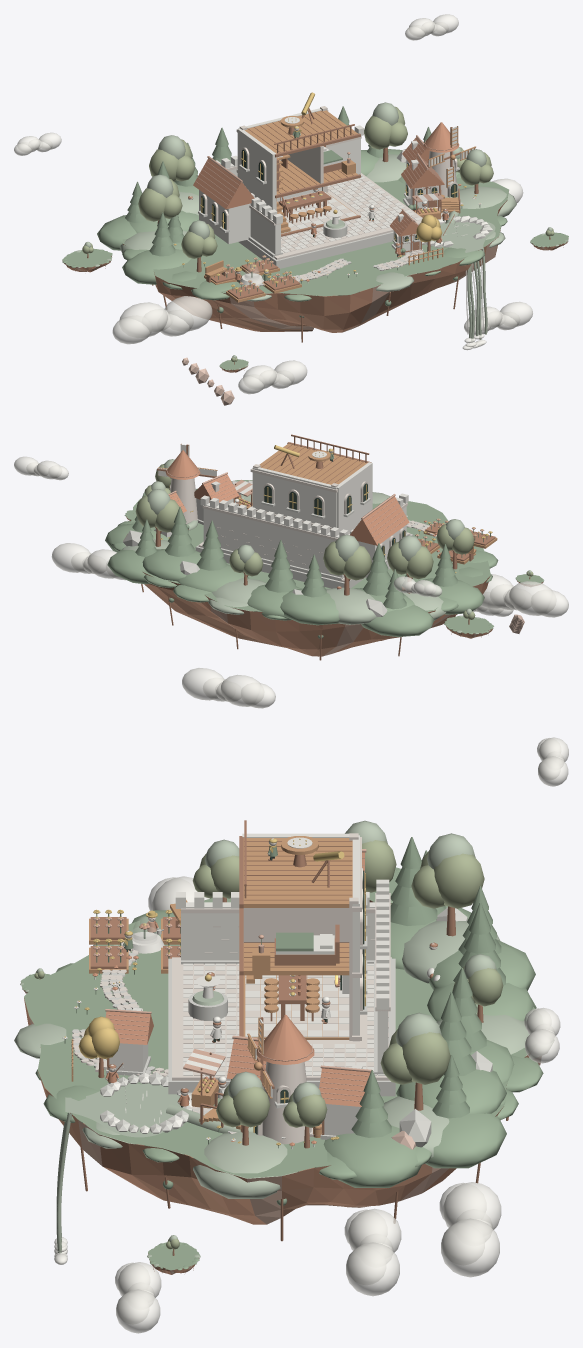
Rendered from castle-interior.glb.
The picture shows the model from 3 angles, top to bottom: view 1: azimuth 30°, elevation 25°; view 2: azimuth 150°, elevation 25°; view 3: azimuth 270°, elevation 25°; orthographic projection. The views are drawn at different scales.
Visible parts, largest first — view 1: island-terrain-details (×5), castle-structure-details (×4), whispering-forest-details (×5), castle-interior-details (×4), wandering-clouds, windmill-village-details (×6), rose-garden-details (×3), starlight-waterfall-details, little-satellite-islands-details (×2), windmill-blades; view 2: whispering-forest-details (×6), castle-structure-details (×6), island-terrain-details (×5), wandering-clouds, castle-interior-details (×2), windmill-village-details (×4), rose-garden-details (×2), little-satellite-islands-details; view 3: whispering-forest-details (×7), island-terrain-details (×5), castle-interior-details (×5), castle-structure-details (×3), windmill-village-details (×7), wandering-clouds, starlight-waterfall-details (×2), rose-garden-details (×3), little-satellite-islands-details, windmill-blades.
Boxes of the visible parts, box(x1,y1,x2,y2) form: island-terrain-details (×5): box(122, 173, 508, 332); castle-structure-details (×4): box(193, 106, 422, 268); whispering-forest-details (×5): box(97, 102, 516, 284); castle-interior-details (×4): box(245, 108, 360, 236); wandering-clouds: box(14, 14, 532, 394); windmill-village-details (×6): box(377, 122, 462, 270); rose-garden-details (×3): box(181, 223, 301, 302); starlight-waterfall-details: box(431, 196, 495, 341); little-satellite-islands-details (×2): box(62, 232, 568, 405); windmill-blades: box(427, 126, 475, 188); whispering-forest-details (×6): box(105, 459, 484, 636); castle-structure-details (×6): box(195, 462, 413, 588); island-terrain-details (×5): box(111, 480, 498, 656); wandering-clouds: box(14, 456, 568, 708); castle-interior-details (×2): box(259, 434, 371, 484); windmill-village-details (×4): box(154, 450, 252, 537); rose-garden-details (×2): box(418, 522, 495, 561); little-satellite-islands-details: box(124, 510, 544, 634); whispering-forest-details (×7): box(64, 820, 535, 1198); island-terrain-details (×5): box(14, 898, 554, 1224); castle-interior-details (×5): box(239, 820, 352, 1039); castle-structure-details (×3): box(168, 833, 395, 1096); windmill-village-details (×7): box(71, 1008, 371, 1144); wandering-clouds: box(115, 737, 568, 1333); starlight-waterfall-details (×2): box(56, 1072, 321, 1253); rose-garden-details (×3): box(90, 853, 239, 1011); little-satellite-islands-details: box(21, 867, 400, 1270); windmill-blades: box(247, 1017, 274, 1098).
Bounding box in the file's own units: 24.55 × 12.03 × 15.38.
